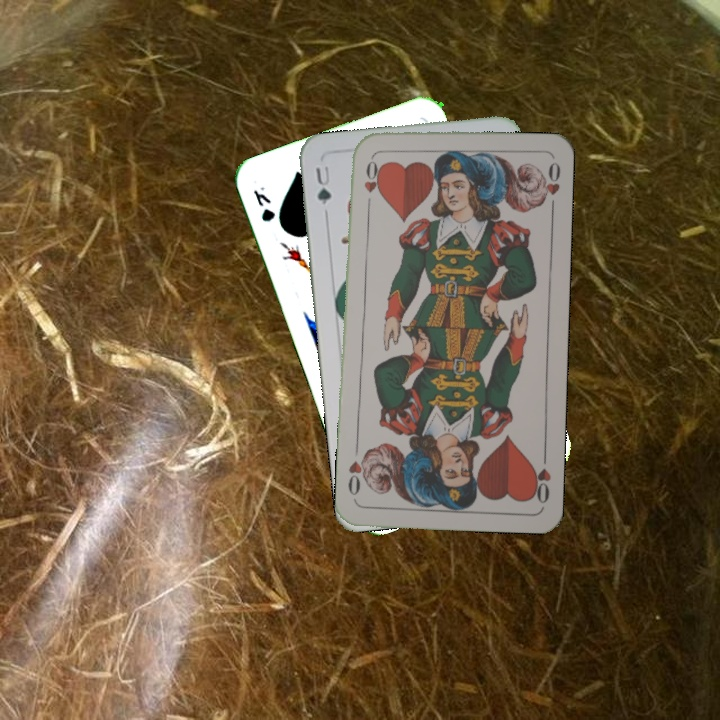GK: (249, 182, 278, 225)
GU: (311, 162, 334, 209)
HO: (528, 448, 554, 506), (360, 153, 379, 212)
